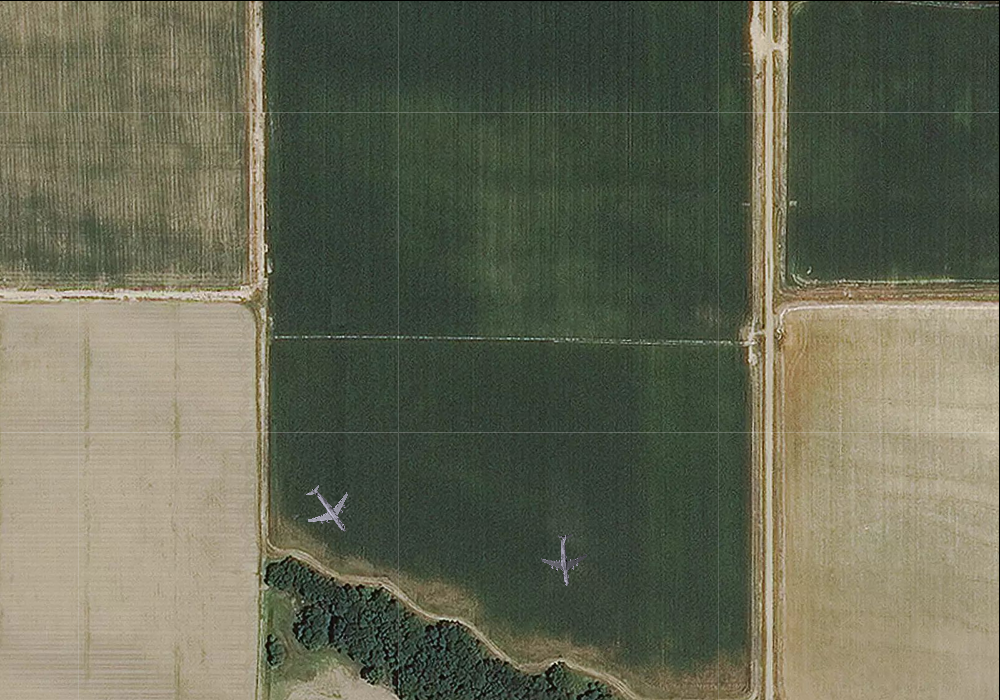plane: (291, 472, 365, 547), (537, 531, 593, 589)
